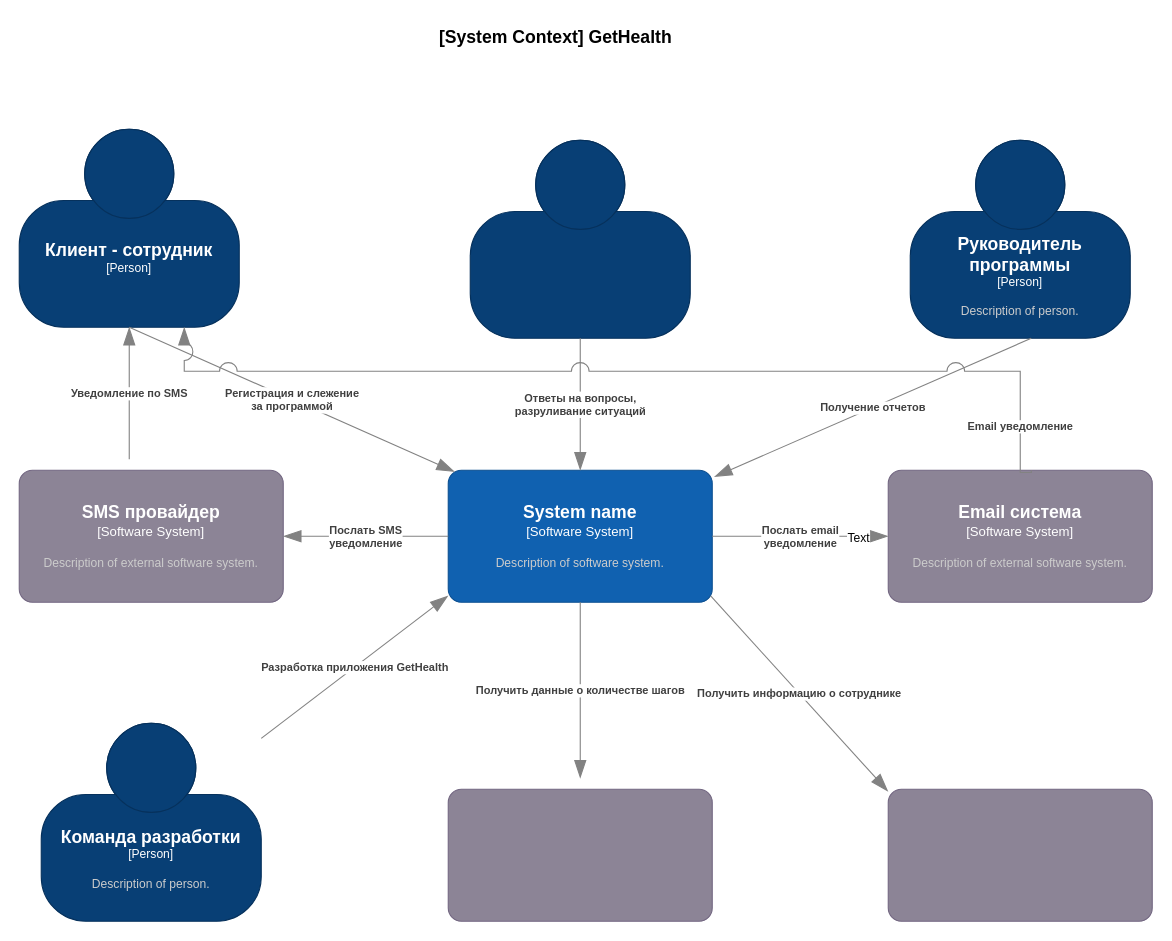
This 1172x941 diagram has some shape labels left out. The centre of each missing label's shape, as x and y in pixels:
Google Fitness [Software System] Description of external software system.: [579,854]
Администратор [Person] Description of person.: [579,238]
Учет сотрудников [Software System] Description of external software system.: [1019,854]
